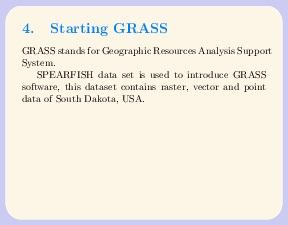paragraph: (19, 43, 276, 112)
title: (49, 19, 170, 40)
